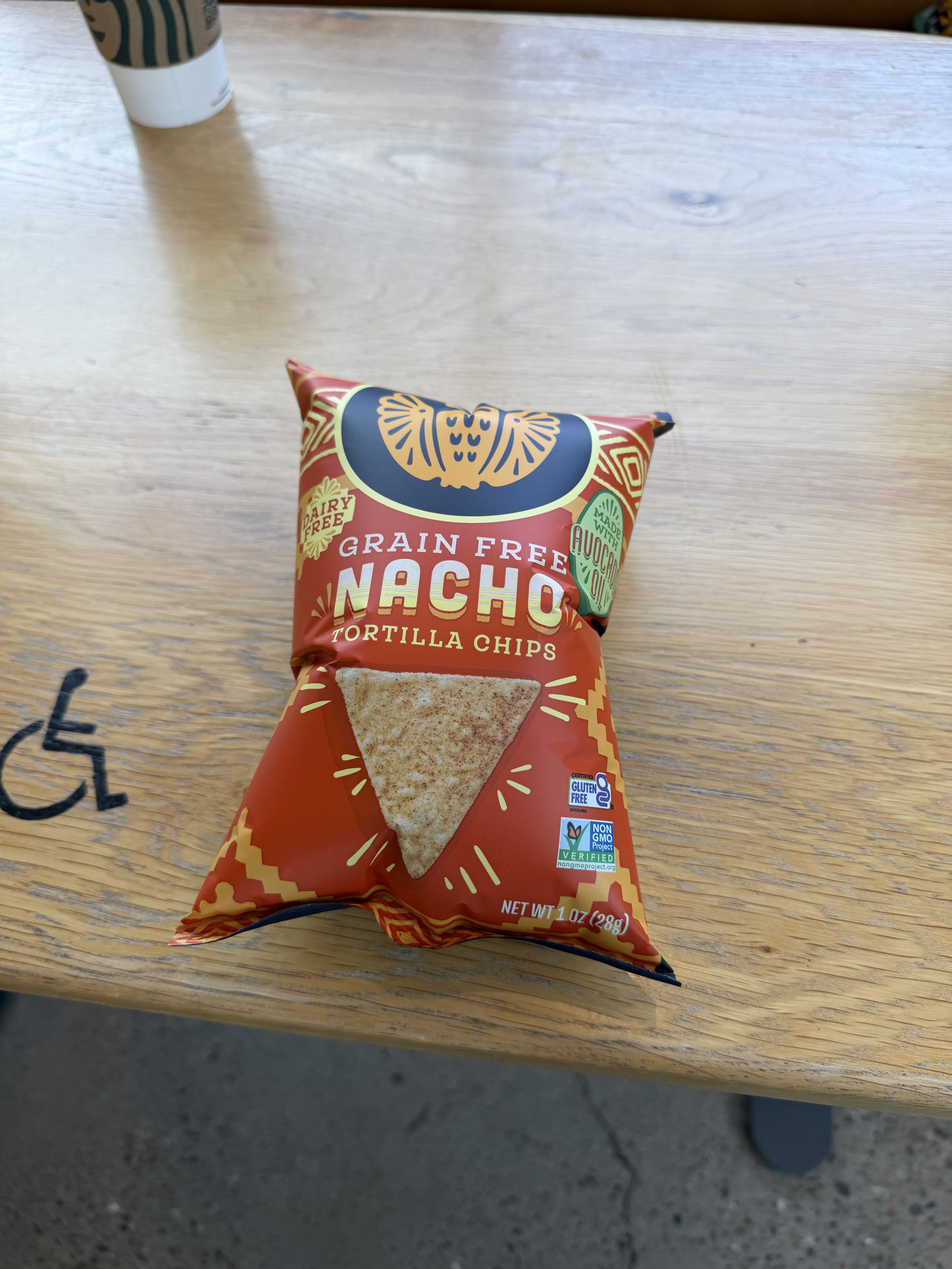nacho: (236, 318, 700, 999)
